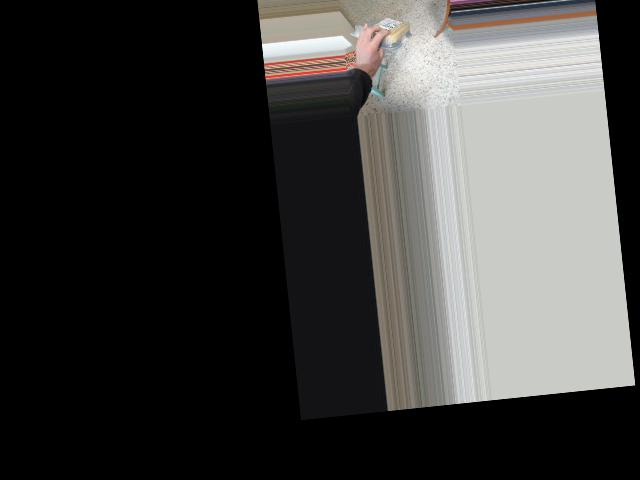cheese: (365, 14, 413, 48)
